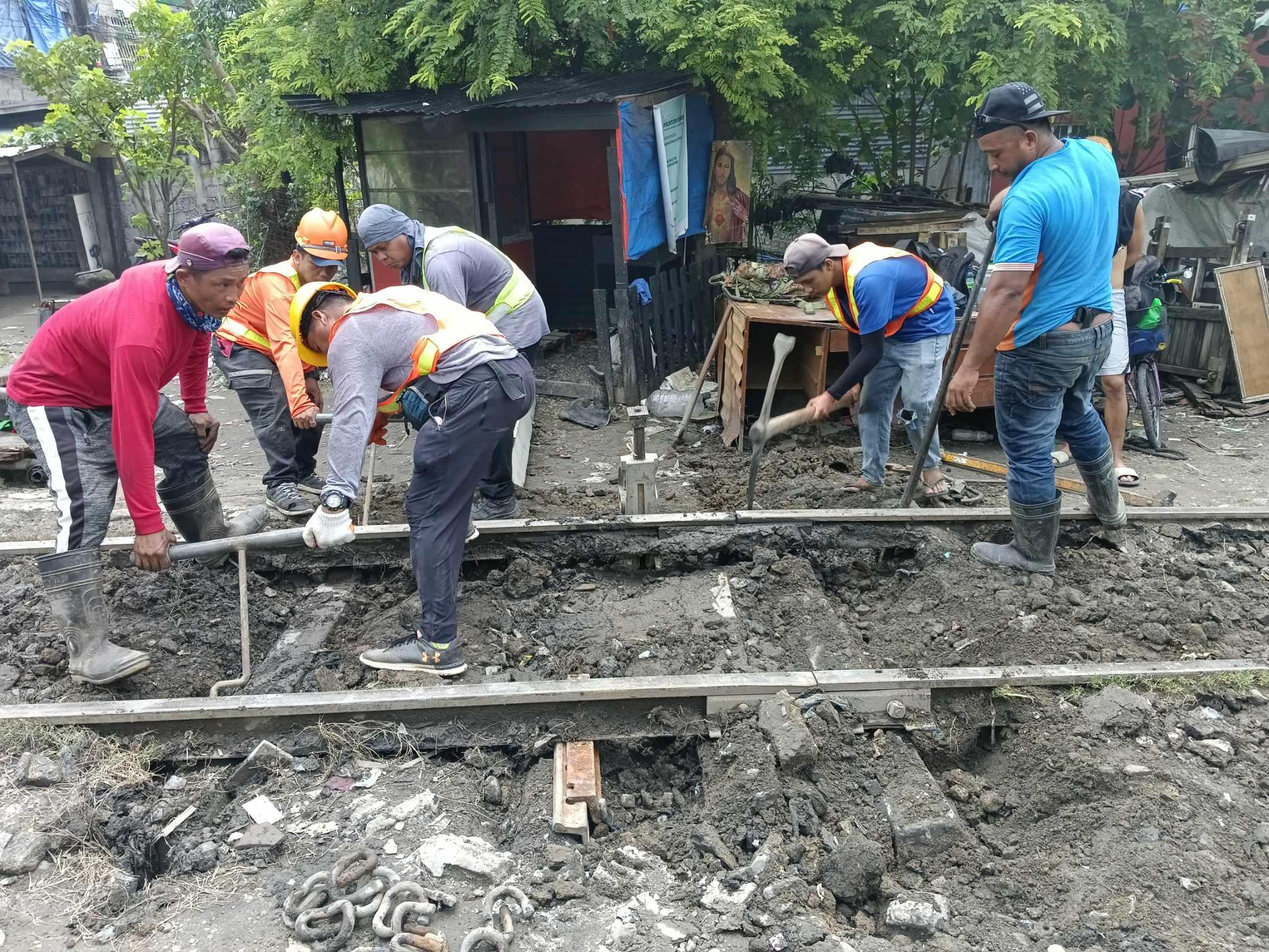railway-gap: (780, 649, 848, 710), (704, 489, 769, 550)
